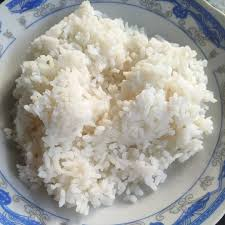Nasi putih: (5, 1, 217, 216)
